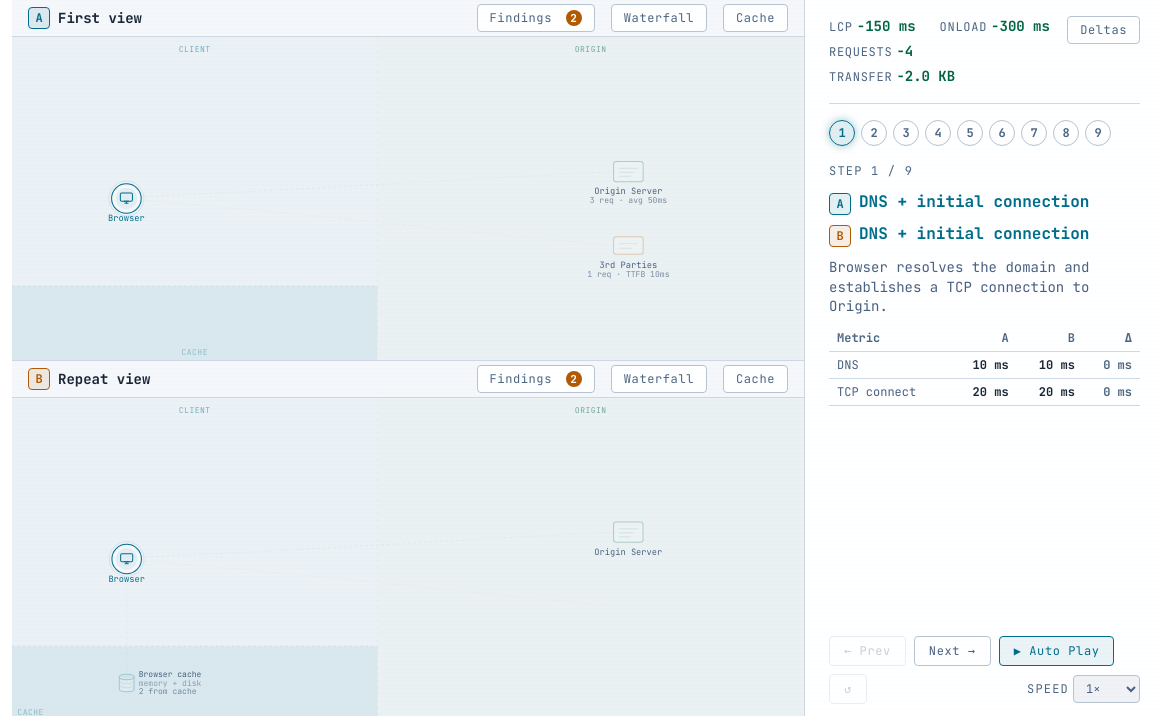
Test case: CompareView › Deltas panel › closes with its close button
The image size is (1164, 716).
Click the button with aria-label "Toggle deltas": {"x": 1104, "y": 30} [1067,16,1140,44]
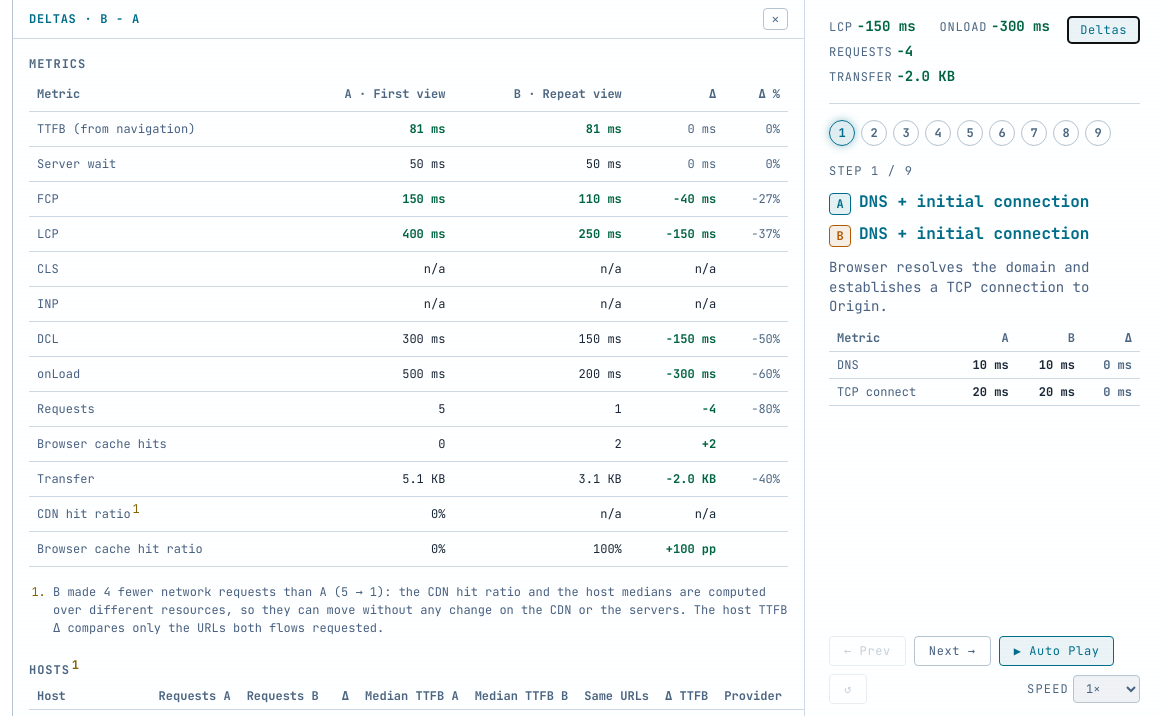
Click the button named "Close deltas": {"x": 775, "y": 19} [763,8,788,30]
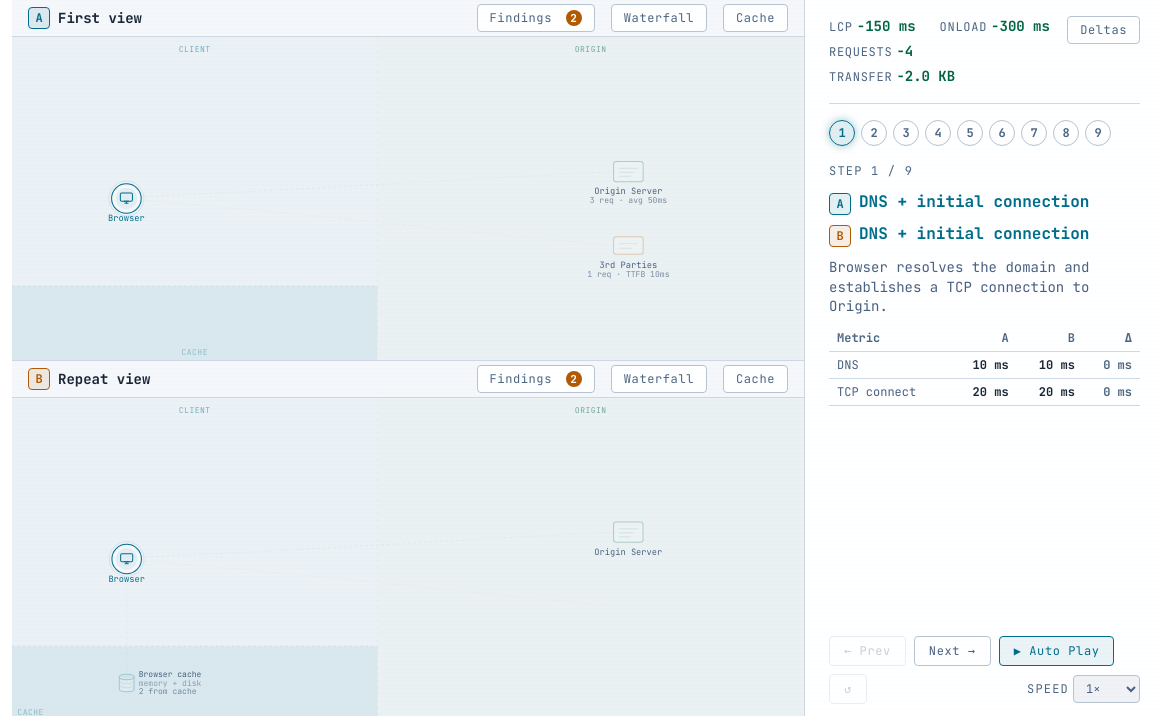
Expected: the button "Metric deltas" is gone
